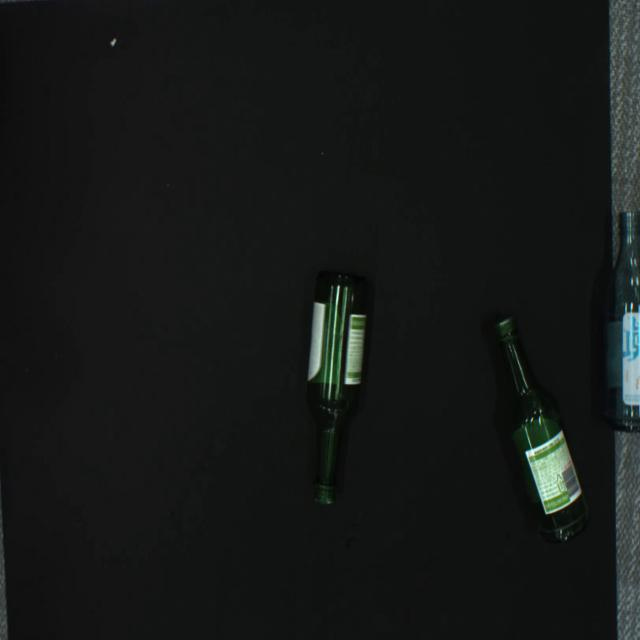soju-bottle: (494, 314, 589, 543), (307, 268, 370, 505), (602, 211, 640, 433)
